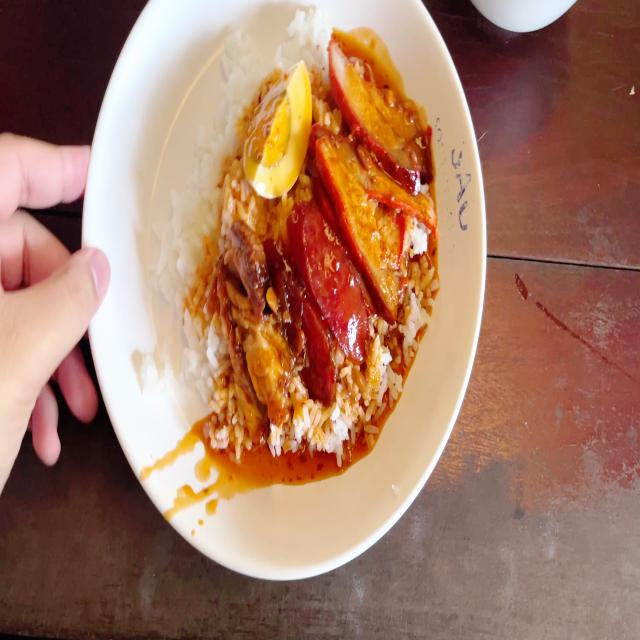boiled_egg: (250, 65, 310, 188)
chainese_sausage: (284, 221, 366, 395)
crispy_pork: (224, 234, 285, 430)
red_pork: (321, 42, 427, 270)
red_pork_and_crispy_pork: (162, 17, 433, 467)
rice: (167, 141, 224, 374), (220, 34, 256, 137)
